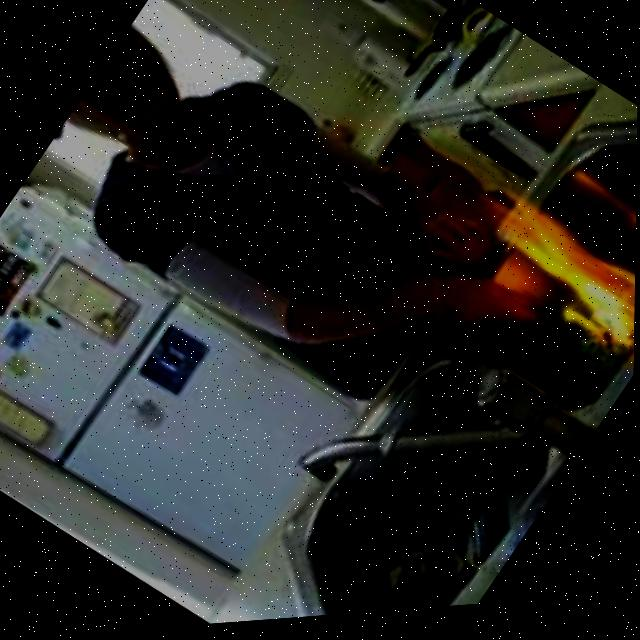Fire: (461, 183, 637, 380)
